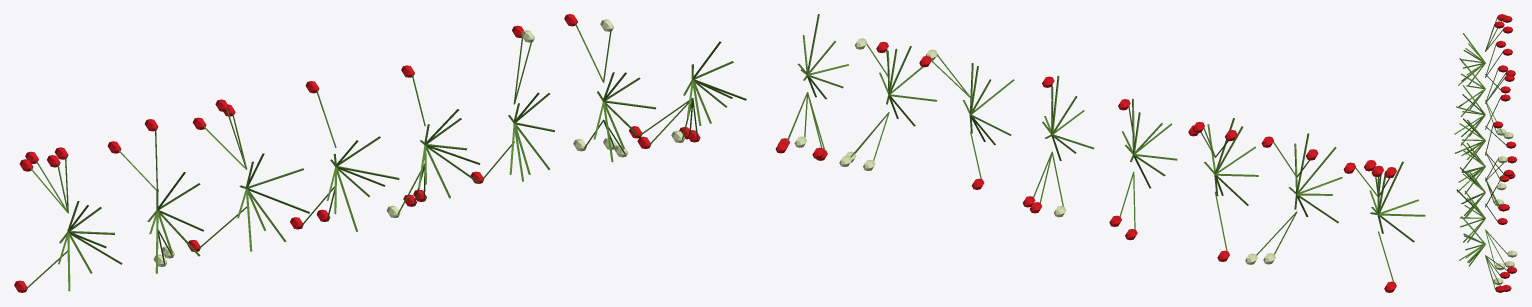
File: r3c2_rest.obj
The picture shows the model from 3 angles, left to right: view 1: azimuth 30°, elevation 25°; view 2: azimuth 150°, elevation 25°; view 3: azimuth 270°, elevation 25°; orthographic projection. The views are drawn at different scales.
Visible parts, largest first — view 1: r3c2_rest; view 2: r3c2_rest; view 3: r3c2_rest.
Part boxes in pixels (x1=…): r3c2_rest: x1=14, y1=14, x2=746, y2=292; r3c2_rest: x1=775, y1=14, x2=1425, y2=292; r3c2_rest: x1=1454, y1=14, x2=1517, y2=292.
Bounding box in the file's own units: 1.94 × 0.4016 × 0.2584.
